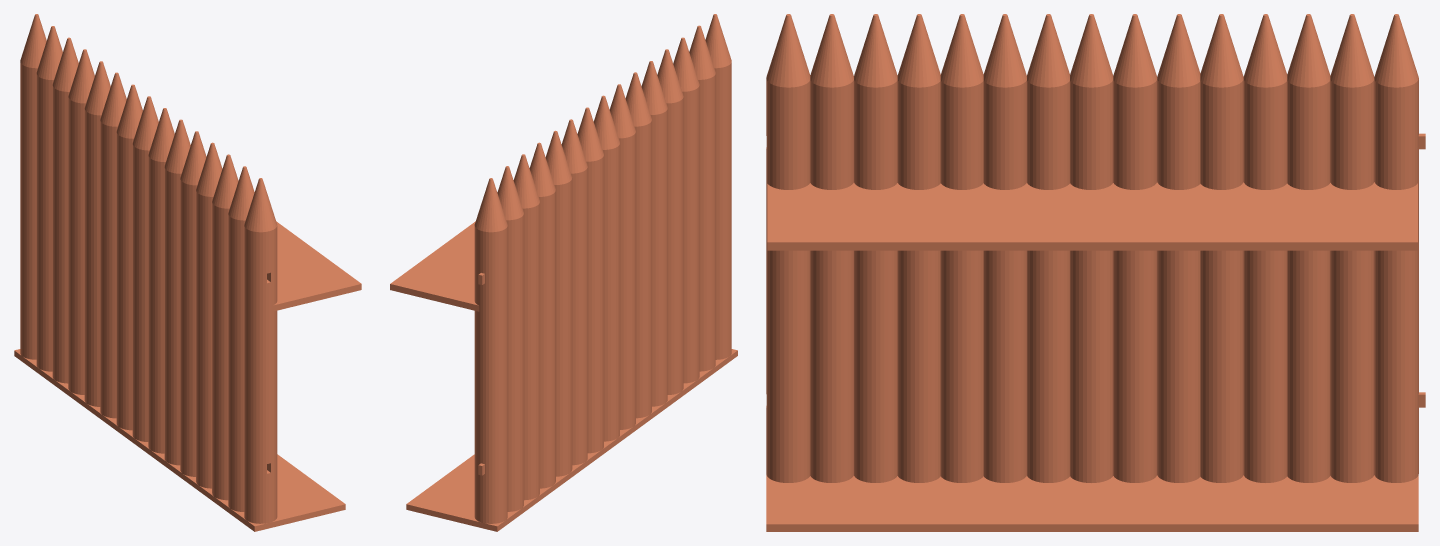
Rendered from wooden_wall.glb.
The picture shows the model from 3 angles, left to right: view 1: azimuth 30°, elevation 25°; view 2: azimuth 150°, elevation 25°; view 3: azimuth 270°, elevation 25°; orthographic projection. The views are drawn at different scales.
Visible parts, largest first — view 1: Roman_camp_wall; view 2: Roman_camp_wall; view 3: Roman_camp_wall.
Part boxes in pixels (box(x1,y1,x2,y2)): Roman_camp_wall: box(14, 14, 361, 531); Roman_camp_wall: box(390, 14, 737, 531); Roman_camp_wall: box(766, 14, 1425, 531).
Size of the model in its own units: 0.7659 by 2.34 by 3.
